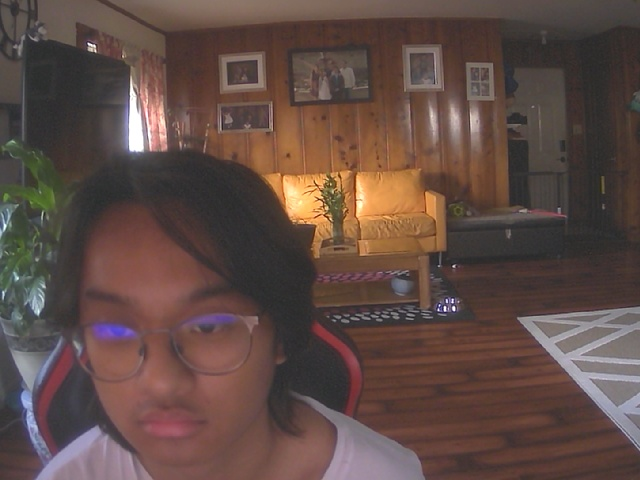neutral: (63, 160, 296, 463)
